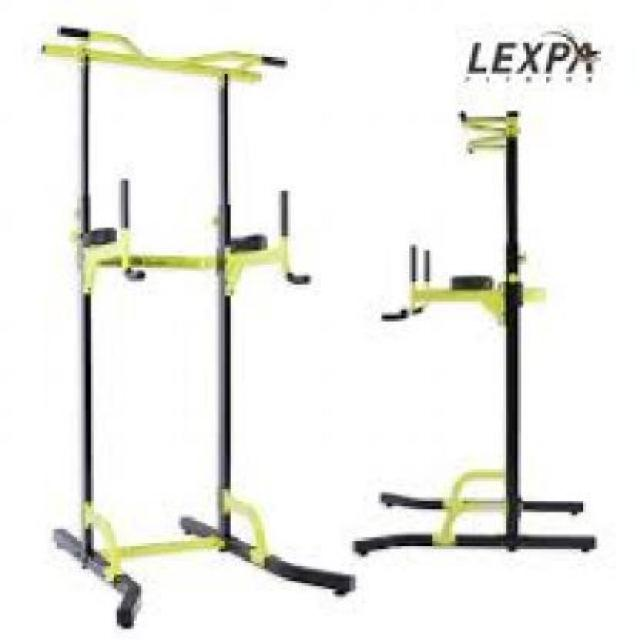chinning dipping: (37, 25, 354, 629), (354, 101, 600, 562)
